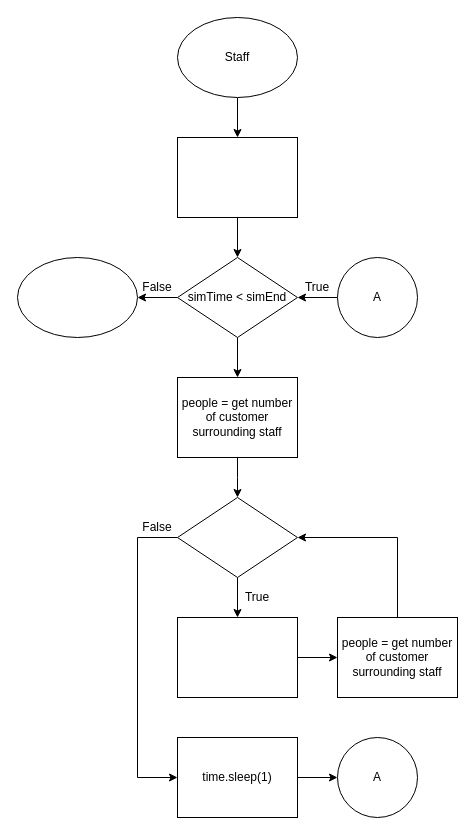
Image size: 475x835. Some labels were removed from this diagram. Each missing label, with the centre of its shape:
"End Thread" goes at (77,297).
"initialize customer, loc, grid, restaurant" goes at (237,177).
"move to new location" goes at (237,657).
"people == 0" goes at (237,537).
